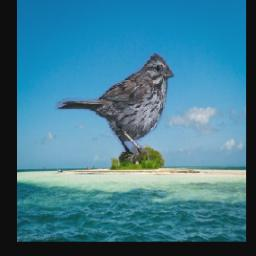Sparrow: (55, 50, 175, 162)
